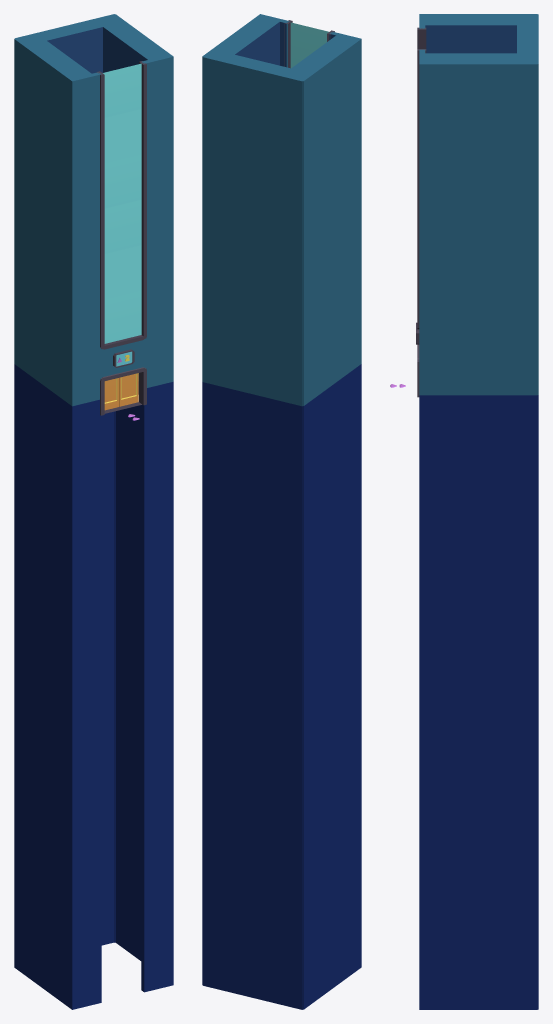
The model's file is Elevator_end_miami.fbx.
3 views of the same model, side by side, from view 1: azimuth 30°, elevation 25°; view 2: azimuth 150°, elevation 25°; view 3: azimuth 270°, elevation 25° (orthographic).
Visible parts, largest first — view 1: ElevatorMine_mesh_miami, Door_l_miami, Door_r_miami; view 2: ElevatorMine_mesh_miami; view 3: ElevatorMine_mesh_miami.
Boxes of the visible parts, bbox=[...] form: ElevatorMine_mesh_miami: bbox=[14, 14, 173, 1009]; Door_l_miami: bbox=[119, 373, 138, 406]; Door_r_miami: bbox=[104, 378, 118, 410]; ElevatorMine_mesh_miami: bbox=[202, 14, 361, 1009]; ElevatorMine_mesh_miami: bbox=[416, 14, 538, 1009].
Bounding box in the file's own units: 895 × 7829 × 1111.
